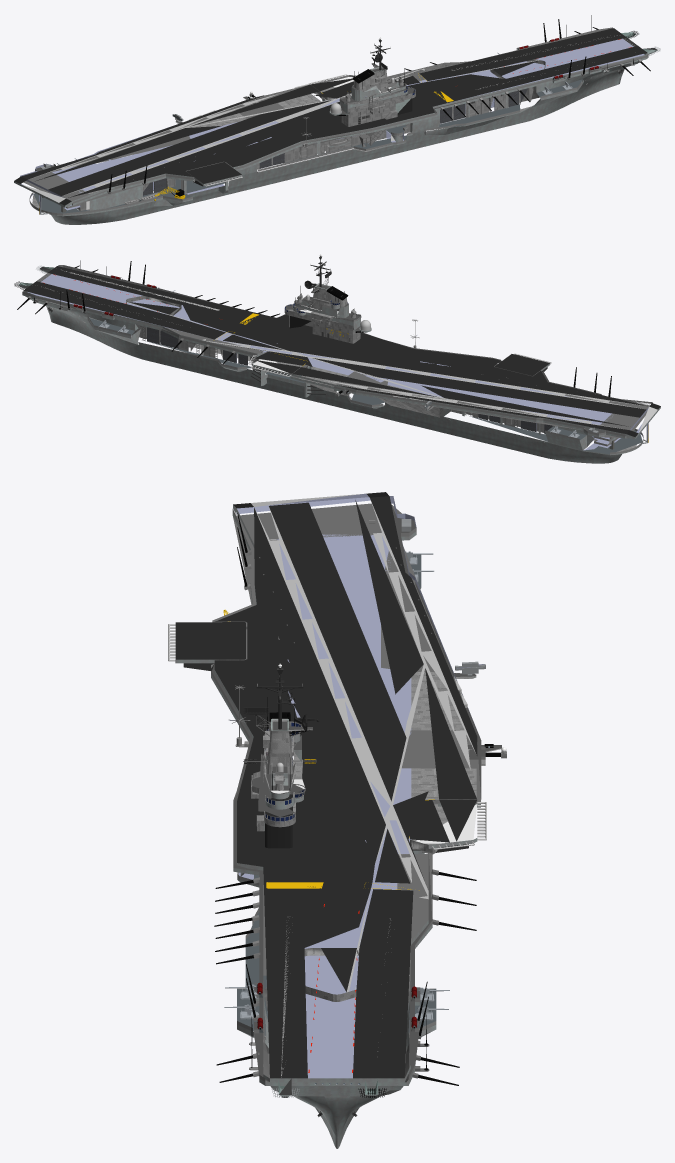
File: essex_scb-125_generic.glb
3 views of the same model, one above another, from view 1: azimuth 30°, elevation 25°; view 2: azimuth 150°, elevation 25°; view 3: azimuth 270°, elevation 25° (orthographic). The views are drawn at different scales.
Parts seen in each view (by area): view 1: Model001_Mesh2, Model001_Mesh26, Model001_Mesh11, Model001_Mesh9, Model001_Mesh12, Model001_Mesh4, Model001_Mesh30, Model001_Mesh15, Model001_Mesh35, Model001_Mesh10, Model001_Mesh27; view 2: Model001_Mesh2, Model001_Mesh26, Model001_Mesh9, Model001_Mesh11, Model001_Mesh30, Model001_Mesh12, Model001_Mesh4, Model001_Mesh15, Model001_Mesh35, Model001_Mesh10, Model001_Mesh27, Model001_Mesh8; view 3: Model001_Mesh2, Model001_Mesh9, Model001_Mesh4, Model001_Mesh30, Model001_Mesh11, Model001_Mesh26, Model001_Mesh27, Model001_Mesh10, Model001_Mesh15, Model001_Mesh12, Model001_Mesh1.
Part boxes in pixels (bbox=[...]): Model001_Mesh2: bbox=[21, 28, 647, 197]; Model001_Mesh26: bbox=[14, 35, 655, 224]; Model001_Mesh11: bbox=[32, 28, 646, 211]; Model001_Mesh9: bbox=[20, 38, 644, 213]; Model001_Mesh12: bbox=[29, 27, 648, 215]; Model001_Mesh4: bbox=[23, 38, 644, 204]; Model001_Mesh30: bbox=[34, 35, 617, 196]; Model001_Mesh15: bbox=[33, 66, 599, 213]; Model001_Mesh35: bbox=[143, 88, 527, 195]; Model001_Mesh10: bbox=[108, 15, 650, 197]; Model001_Mesh27: bbox=[36, 49, 641, 171]; Model001_Mesh2: bbox=[23, 266, 647, 433]; Model001_Mesh26: bbox=[18, 269, 660, 463]; Model001_Mesh9: bbox=[27, 274, 648, 450]; Model001_Mesh11: bbox=[24, 266, 649, 451]; Model001_Mesh30: bbox=[41, 262, 640, 429]; Model001_Mesh12: bbox=[22, 265, 652, 454]; Model001_Mesh4: bbox=[28, 274, 649, 438]; Model001_Mesh15: bbox=[89, 276, 642, 454]; Model001_Mesh35: bbox=[147, 327, 552, 434]; Model001_Mesh10: bbox=[14, 260, 611, 396]; Model001_Mesh27: bbox=[40, 285, 604, 433]; Model001_Mesh8: bbox=[194, 254, 466, 415]; Model001_Mesh2: bbox=[175, 496, 477, 1078]; Model001_Mesh9: bbox=[229, 493, 484, 1084]; Model001_Mesh4: bbox=[231, 503, 480, 1082]; Model001_Mesh30: bbox=[255, 501, 476, 1077]; Model001_Mesh11: bbox=[211, 540, 506, 1076]; Model001_Mesh26: bbox=[175, 505, 480, 1148]; Model001_Mesh27: bbox=[212, 504, 501, 1081]; Model001_Mesh10: bbox=[214, 513, 500, 1097]; Model001_Mesh15: bbox=[237, 554, 436, 1035]; Model001_Mesh12: bbox=[211, 509, 485, 1081]; Model001_Mesh1: bbox=[224, 551, 449, 1020].
Size of the model in its own units: 4.16 by 0.76 by 0.9839.
45 materials, 45 textured.
